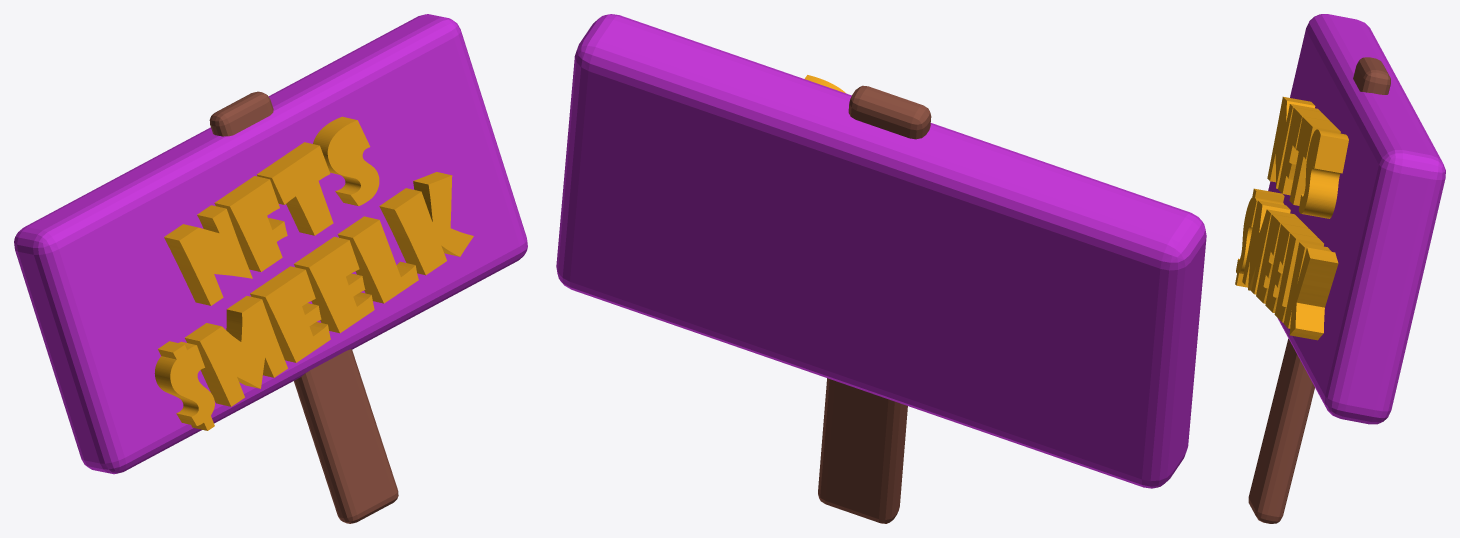
Rendered from NM_sign.glb.
The picture shows the model from 3 angles, left to right: view 1: azimuth 30°, elevation 25°; view 2: azimuth 150°, elevation 25°; view 3: azimuth 270°, elevation 25°; orthographic projection. The views are drawn at different scales.
Visible parts, largest first — view 1: Sign.002, Text.002, Sign stick.002; view 2: Sign.002, Sign stick.002; view 3: Sign.002, Text.002, Sign stick.002.
Part boxes in pixels (x1=…): Sign.002: x1=14, y1=14, x2=527, y2=474; Text.002: x1=154, y1=116, x2=473, y2=430; Sign stick.002: x1=209, y1=91, x2=398, y2=523; Sign.002: x1=556, y1=14, x2=1206, y2=488; Sign stick.002: x1=818, y1=85, x2=931, y2=523; Sign.002: x1=1268, y1=14, x2=1445, y2=424; Text.002: x1=1235, y1=96, x2=1348, y2=340; Sign stick.002: x1=1248, y1=57, x2=1390, y2=523.
Size of the model in its own units: 2 by 1.59 by 0.6889.
